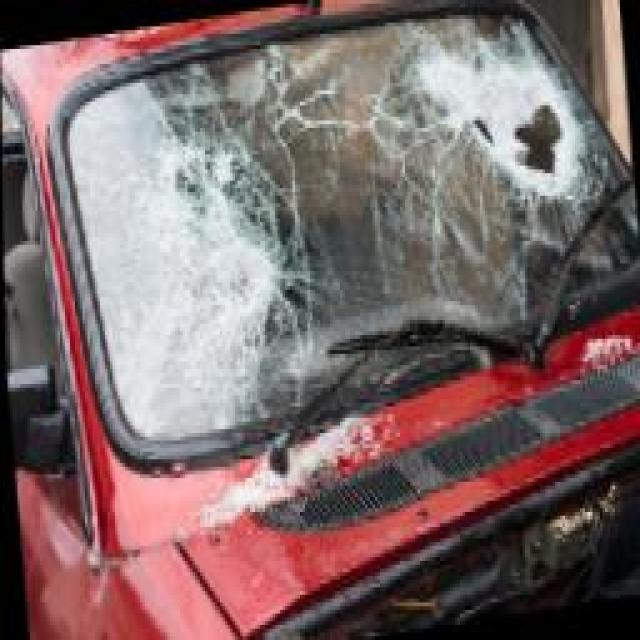Bonnet: (165, 305, 639, 640)
Windshield: (58, 0, 636, 482)
